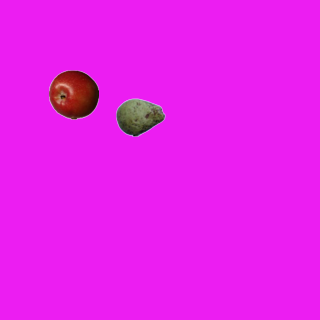Apple Braeburn: (48, 69, 98, 119)
Pear Stone: (115, 92, 165, 142)
